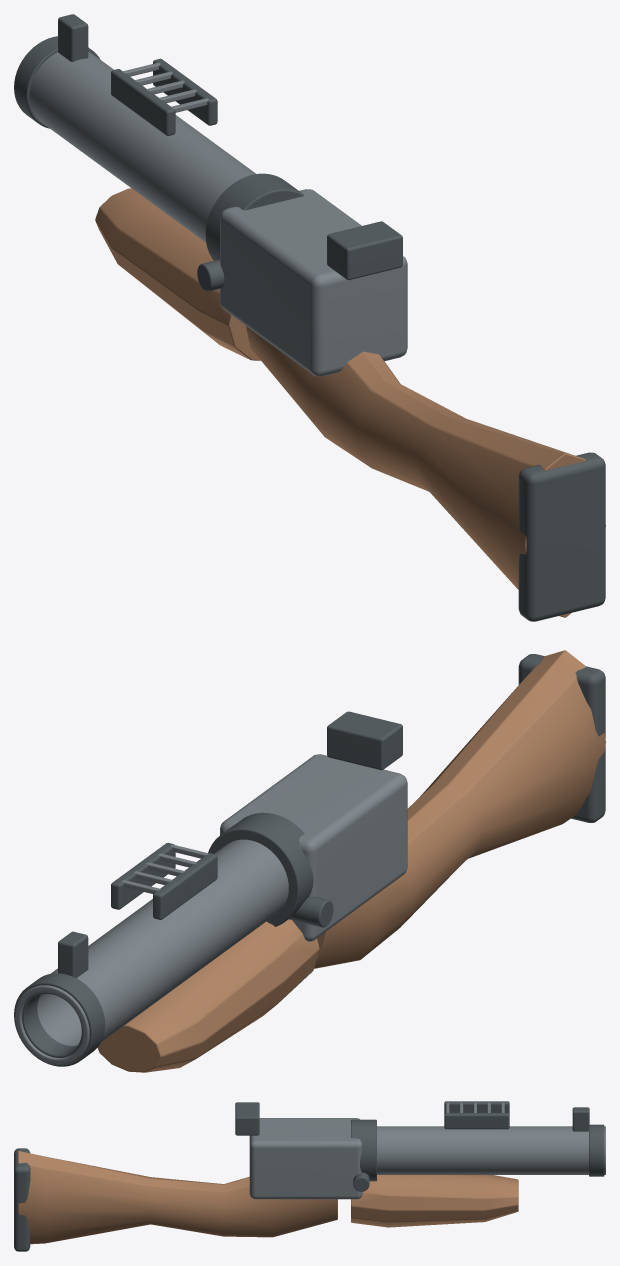
File: launcher.glb
The picture shows the model from 3 angles, top to bottom: view 1: azimuth 30°, elevation 25°; view 2: azimuth 150°, elevation 25°; view 3: azimuth 270°, elevation 25°; orthographic projection. The views are drawn at different scales.
Parts seen in each view (by area): view 1: Steel, Wood, Dark; view 2: Wood, Steel, Dark; view 3: Wood, Steel, Dark.
Part boxes in pixels (bbox=[...]): Steel: bbox=[29, 51, 407, 376]; Wood: bbox=[95, 188, 605, 617]; Dark: bbox=[14, 14, 605, 621]; Wood: bbox=[97, 650, 605, 1072]; Steel: bbox=[15, 754, 407, 1064]; Dark: bbox=[14, 654, 605, 1066]; Wood: bbox=[18, 1151, 518, 1244]; Steel: bbox=[249, 1102, 605, 1199]; Dark: bbox=[14, 1101, 604, 1251].
Size of the model in its own units: 0.1 by 0.1856 by 0.7275.
